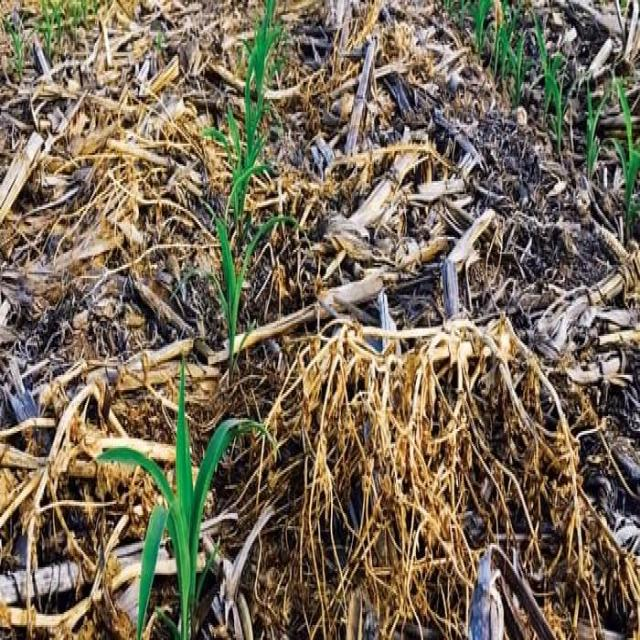row: (206, 0, 640, 640), (0, 2, 253, 640), (524, 0, 640, 141)
